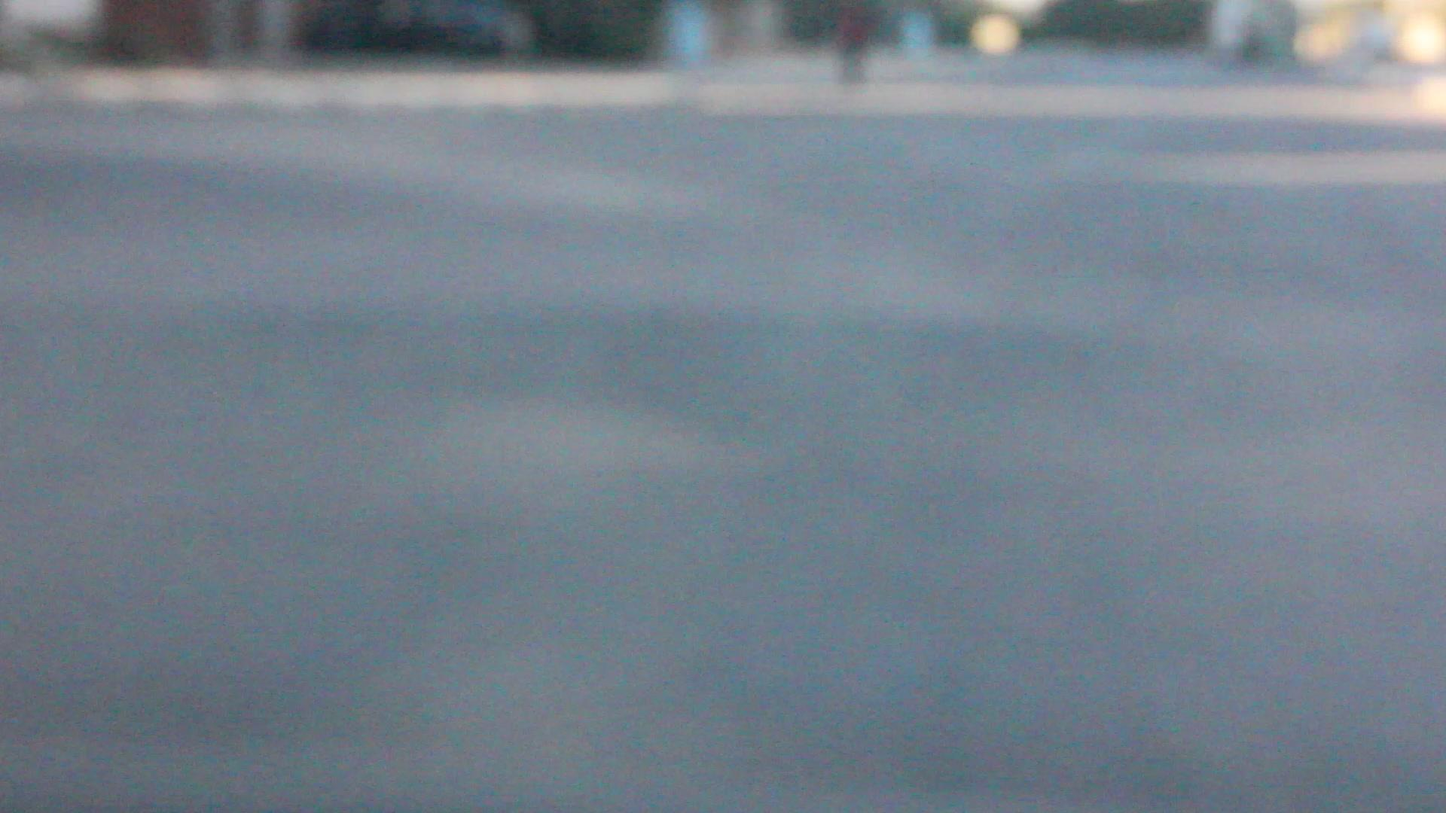Bump: (6, 324, 1446, 433)
